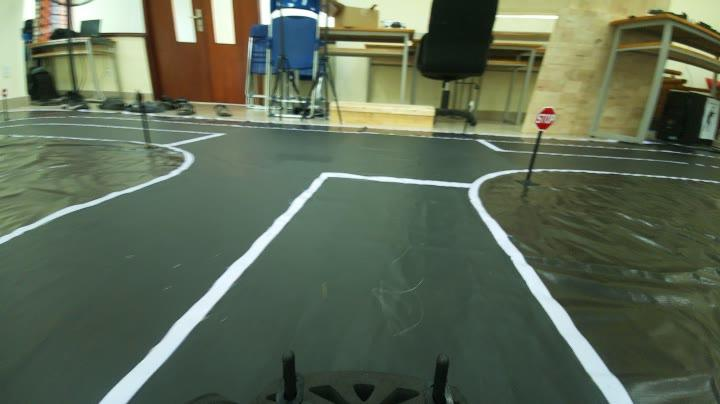stop: (530, 103, 560, 133)
